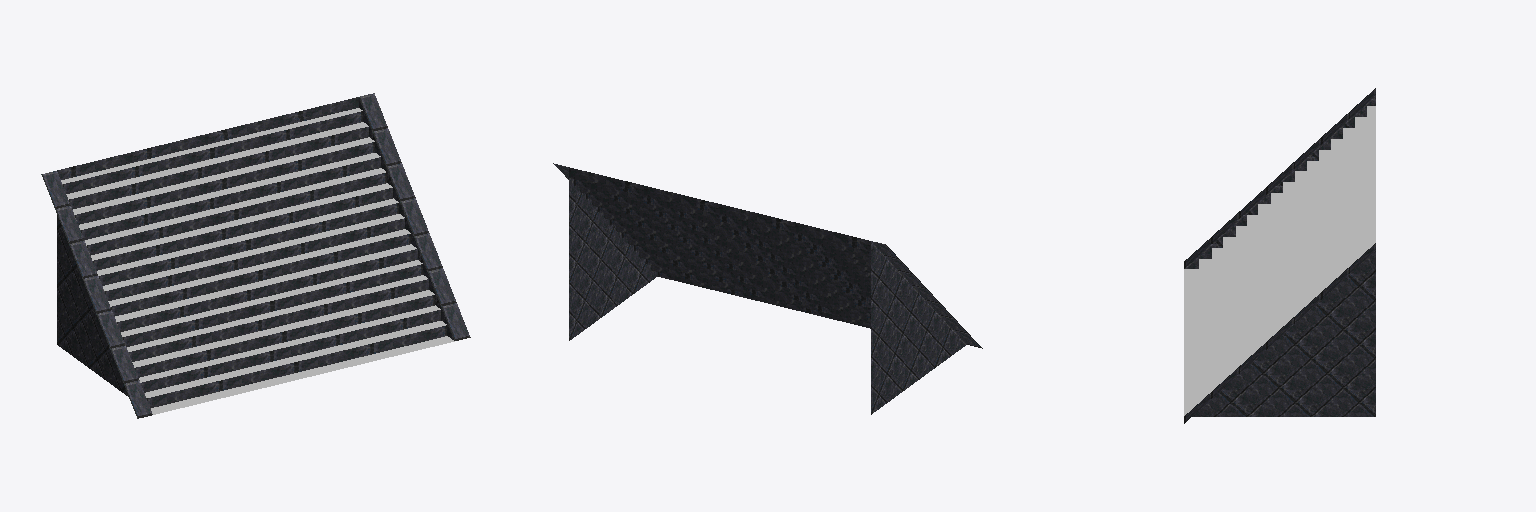
3 renders of one model, left to right at view 1: azimuth 30°, elevation 25°; view 2: azimuth 150°, elevation 25°; view 3: azimuth 270°, elevation 25°, orthographic.
Parts seen in each view (by area): view 1: model59012-node_model59012; view 2: model59012-node_model59012; view 3: model59012-node_model59012.
Part boxes in pixels (left/top/right/bottom): model59012-node_model59012: left=41, top=93, right=470, bottom=418; model59012-node_model59012: left=553, top=163, right=982, bottom=414; model59012-node_model59012: left=1184, top=88, right=1375, bottom=423.
Bounding box in the file's own units: 12.8 × 6.4 × 6.4.
2 materials, 1 textured.